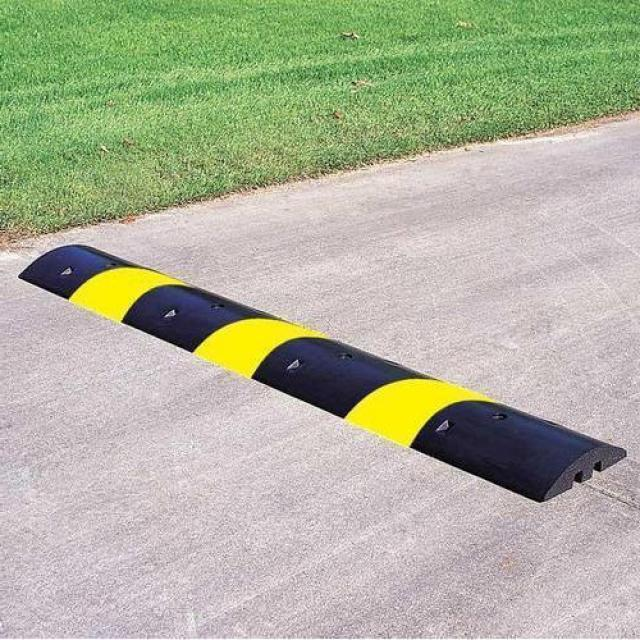speedbreaker: (17, 236, 624, 496)
